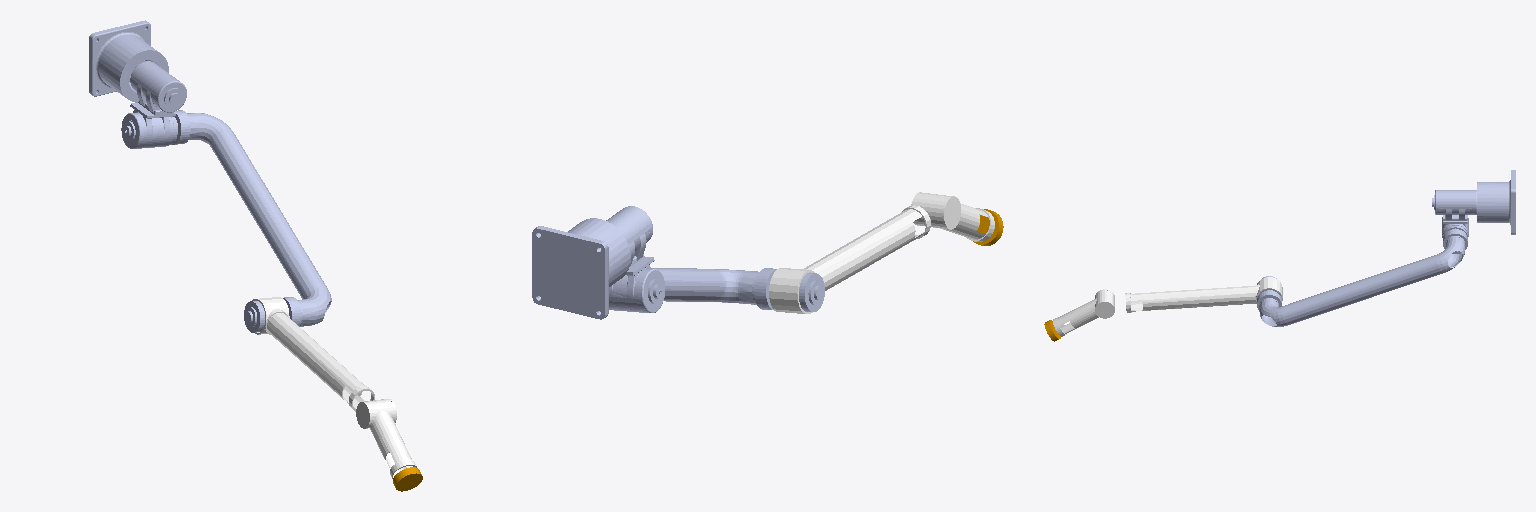
robot.urdf — starlink_space_manipulator_merged.SLDASM9:
<?xml version='1.0' encoding='utf-8'?>
<robot name="starlink_space_manipulator_merged.SLDASM9">
  <link name="starlink_space_manipulator_base_link">
    <inertial>
      <origin xyz="-0.00908719924946466 0.0225428225681148 -0.00851924929637313" rpy="0 0 0" />
      <mass value="8.66024015898073" />
      <inertia ixx="0.0960303512697639" ixy="1.65511904636803E-18" ixz="6.22039820639877E-19" iyy="0.103454922260914" iyz="-9.68471289978311E-19" izz="0.0960303512697639" />
    </inertial>
    <visual>
      <origin xyz="0 0 0" rpy="0 0 0" />
      <geometry>
        <mesh filename="meshes/starlink_space_manipulator_base_link.STL" />
      </geometry>
      <material name="">
        <color rgba="0.792156862745098 0.819607843137255 0.933333333333333 1" />
      </material>
    </visual>
    <collision>
      <origin xyz="0 0 0" rpy="0 0 0" />
      <geometry>
        <mesh filename="meshes/starlink_space_manipulator_base_link.STL" />
      </geometry>
    </collision>
  </link>
  <link name="starlink_space_manipulator_Shoulder_link_1">
    <inertial>
      <origin xyz="-0.000399471745595769 -0.100006574194712 -0.17423940484461" rpy="0 0 0" />
      <mass value="5.16309216784981" />
      <inertia ixx="0.0524543852135592" ixy="0.00348154867667969" ixz="6.96526910910627E-05" iyy="0.0306595326318824" iyz="-0.00056674368052247" izz="0.0439979075615329" />
    </inertial>
    <visual>
      <origin xyz="0 0 0" rpy="0 0 0" />
      <geometry>
        <mesh filename="meshes/starlink_space_manipulator_Shoulder_link_1.STL" />
      </geometry>
      <material name="">
        <color rgba="0.792156862745098 0.819607843137255 0.933333333333333 1" />
      </material>
    </visual>
    <collision>
      <origin xyz="0 0 0" rpy="0 0 0" />
      <geometry>
        <mesh filename="meshes/starlink_space_manipulator_Shoulder_link_1.STL" />
      </geometry>
    </collision>
  </link>
  <joint name="starlink_space_manipulator_Shoulder_link_1_yaw" type="revolute">
    <origin xyz="-0.0090872 -0.065 -0.0085192" rpy="1.5708 -0.15574 3.1416" />
    <parent link="starlink_space_manipulator_base_link" />
    <child link="starlink_space_manipulator_Shoulder_link_1" />
    <axis xyz="0 0 -1" />
    <limit lower="-3.14" upper="3.14" effort="0" velocity="0" />
  </joint>
  <link name="starlink_space_manipulator_Upper_arm_Link_1">
    <inertial>
      <origin xyz="0.402106341472203 -0.696465272634528 -0.170177523085579" rpy="0 0 0" />
      <mass value="5.05309869040685" />
      <inertia ixx="0.388719013133801" ixy="0.210155896498943" ixz="9.30829370680679E-08" iyy="0.146049057575642" iyz="1.71830458004218E-07" izz="0.500677708275447" />
    </inertial>
    <visual>
      <origin xyz="0 0 0" rpy="0 0 0" />
      <geometry>
        <mesh filename="meshes/starlink_space_manipulator_Upper_arm_Link_1.STL" />
      </geometry>
      <material name="">
        <color rgba="0.792156862745098 0.819607843137255 0.933333333333333 1" />
      </material>
    </visual>
    <collision>
      <origin xyz="0 0 0" rpy="0 0 0" />
      <geometry>
        <mesh filename="meshes/starlink_space_manipulator_Upper_arm_Link_1.STL" />
      </geometry>
    </collision>
  </link>
  <joint name="starlink_space_manipulator_Upper_arm_Link_1_roll" type="revolute">
    <origin xyz="0 -0.2 -0.18" rpy="1.5708 0.90646 1.5708" />
    <parent link="starlink_space_manipulator_Shoulder_link_1" />
    <child link="starlink_space_manipulator_Upper_arm_Link_1" />
    <axis xyz="0 0 -1" />
    <limit lower="-2" upper="1.5" effort="0" velocity="0" />
  </joint>
  <link name="starlink_space_manipulator_Mid_arm_Link_1">
    <inertial>
      <origin xyz="-0.000406052776441013 0.317722269561105 0.0155331755135703" rpy="0 0 0" />
      <mass value="1.57635531881168" />
      <inertia ixx="0.133610363618846" ixy="5.33750993405138E-05" ixz="-3.60473795202962E-09" iyy="0.00502119434334708" iyz="-2.514275749911E-05" izz="0.134586018527477" />
    </inertial>
    <visual>
      <origin xyz="0 0 0" rpy="0 0 0" />
      <geometry>
        <mesh filename="meshes/starlink_space_manipulator_Mid_arm_Link_1.STL" />
      </geometry>
      <material name="">
        <color rgba="1 1 1 1" />
      </material>
    </visual>
    <collision>
      <origin xyz="0 0 0" rpy="0 0 0" />
      <geometry>
        <mesh filename="meshes/starlink_space_manipulator_Mid_arm_Link_1.STL" />
      </geometry>
    </collision>
  </link>
  <joint name="starlink_space_manipulator_Mid_arm_Link_1_roll" type="revolute">
    <origin xyz="0.599999999999673 -1.03923048454122 0" rpy="-3.14159265358979 0 0.828250280535091" />
    <parent link="starlink_space_manipulator_Upper_arm_Link_1" />
    <child link="starlink_space_manipulator_Mid_arm_Link_1" />
    <axis xyz="0 0 -1" />
    <limit lower="-3.14" upper="3.14" effort="0" velocity="0" />
  </joint>
  <link name="starlink_space_manipulator_Upper_wrist_Link_1">
    <inertial>
      <origin xyz="-0.000400003664721815 -0.201565878030355 -0.00216705855311664" rpy="0 0 0" />
      <mass value="0.994770641034713" />
      <inertia ixx="0.00165409639029414" ixy="-7.59103925411082E-06" ixz="-3.17403155320863E-06" iyy="0.00201437937768072" iyz="2.63246464091218E-06" izz="0.00159638838344539" />
    </inertial>
    <visual>
      <origin xyz="0 0 0" rpy="0 0 0" />
      <geometry>
        <mesh filename="meshes/starlink_space_manipulator_Upper_wrist_Link_1.STL" />
      </geometry>
      <material name="">
        <color rgba="0.792156862745098 0.819607843137255 0.933333333333333 1" />
      </material>
    </visual>
    <collision>
      <origin xyz="0 0 0" rpy="0 0 0" />
      <geometry>
        <mesh filename="meshes/starlink_space_manipulator_Upper_wrist_Link_1.STL" />
      </geometry>
    </collision>
  </link>
  <joint name="starlink_space_manipulator_Upper_wrist_Link_1_yaw" type="revolute">
    <origin xyz="-0.00050155183276912 0.686793643713439 0.0155010481432086" rpy="0 -0.0763876794035917 3.14159265358979" />
    <parent link="starlink_space_manipulator_Mid_arm_Link_1" />
    <child link="starlink_space_manipulator_Upper_wrist_Link_1" />
    <axis xyz="0 -1 0" />
    <limit lower="-3.14" upper="3.14" effort="0" velocity="0" />
  </joint>
  <link name="starlink_space_manipulator_Upper_wrist_Link_2">
    <inertial>
      <origin xyz="8.45304168883843E-08 0.0848318719623631 -0.00515657391755576" rpy="0 0 0" />
      <mass value="1.03716823037577" />
      <inertia ixx="0.0100970561498589" ixy="1.32295633551837E-09" ixz="-9.43675929999229E-09" iyy="0.00222325407426665" iyz="-2.08772874866187E-06" izz="0.0105840577017538" />
    </inertial>
    <visual>
      <origin xyz="0 0 0" rpy="0 0 0" />
      <geometry>
        <mesh filename="meshes/starlink_space_manipulator_Upper_wrist_Link_2.STL" />
      </geometry>
      <material name="">
        <color rgba="1 1 1 1" />
      </material>
    </visual>
    <collision>
      <origin xyz="0 0 0" rpy="0 0 0" />
      <geometry>
        <mesh filename="meshes/starlink_space_manipulator_Upper_wrist_Link_2.STL" />
      </geometry>
    </collision>
  </link>
  <joint name="starlink_space_manipulator_Upper_wrist_Link_2_roll" type="revolute">
    <origin xyz="0 -0.30020635628656 0" rpy="-0.0158640776811277 -0.0317448426184613 -2.67805461574742" />
    <parent link="starlink_space_manipulator_Upper_wrist_Link_1" />
    <child link="starlink_space_manipulator_Upper_wrist_Link_2" />
    <axis xyz="0 0 1" />
    <limit lower="-2.5" upper="1.8" effort="0" velocity="0" />
  </joint>
  <link name="starlink__space_manipulator_2F-Body_Link">
    </link>
  <joint name="starlink__space_manipulator_2F-Body_Link_yaw" type="revolute">
    <origin xyz="0 0.34845 -0.0053813" rpy="-3.1416 0.93592 0" />
    <parent link="starlink_space_manipulator_Upper_wrist_Link_2" />
    <child link="starlink__space_manipulator_2F-Body_Link" />
    <axis xyz="0 -1 0" />
    <limit lower="-3.14" upper="3.14" effort="0" velocity="0" />
  </joint>
  <link name="angular_hand">
    <visual>
      <geometry>
        <mesh filename="meshes/hand_2finger.STL" scale="2 2 2" />
      </geometry>
    </visual>
    <collision>
      <geometry>
        <mesh filename="meshes/hand_2finger.STL" scale="2 2 2" />
      </geometry>
    </collision>
  </link>
  <joint name="angular_hand_fixed" type="fixed">
    <parent link="starlink__space_manipulator_2F-Body_Link" />
    <child link="angular_hand" />
    <origin xyz="0 -0.036 0" rpy="-1.5707963267948966 0 0" />
  </joint>
  <link name="angular_adapter">
    <visual>
      <geometry>
        <mesh filename="meshes/angular_adapter.stl" />
      </geometry>
    </visual>
    <collision>
      <geometry>
        <mesh filename="meshes/angular_adapter.stl" />
      </geometry>
    </collision>
  </link>
  <joint name="angular_adapter_fixed" type="fixed">
    <parent link="starlink__space_manipulator_2F-Body_Link" />
    <child link="angular_adapter" />
    <origin xyz="0 -0.0005 0" rpy="1.5707963267948966 0 0" />
  </joint>
  <link name="angular_finger_1">
    <visual>
      <geometry>
        <mesh filename="meshes/finger_proximal.STL" scale="2 2 2" />
      </geometry>
    </visual>
    <collision>
      <geometry>
        <mesh filename="meshes/finger_proximal.STL" scale="2 2 2" />
      </geometry>
    </collision>
  </link>
  <link name="angular_tip_1">
    <visual>
      <geometry>
        <mesh filename="meshes/finger_distal.STL" scale="2 2 2" />
      </geometry>
    </visual>
    <collision>
      <geometry>
        <mesh filename="meshes/finger_distal.STL" scale="2 2 2" />
      </geometry>
    </collision>
  </link>
  <joint name="angular_joint_1" type="revolute">
    <parent link="angular_hand" />
    <child link="angular_finger_1" />
    <axis xyz="0 0 1" />
    <origin xyz="-0.005 0.0619 -0.22964" rpy="-1.570796327 .649262481663582 1.5707963267948966" />
    <limit lower="0" upper="1.51" effort="2" velocity="1" />
  </joint>
  <joint name="angular_joint_tip_1" type="revolute">
    <parent link="angular_finger_1" />
    <child link="angular_tip_1" />
    <axis xyz="0 0 1" />
    <origin xyz="0.088 -0.006 0.0" rpy="0 0 0" />
    <limit lower="0" upper="2" effort="2" velocity="1" />
  </joint>
  <link name="angular_finger_2">
    <visual>
      <geometry>
        <mesh filename="meshes/finger_proximal.STL" scale="2 2 2" />
      </geometry>
    </visual>
    <collision>
      <geometry>
        <mesh filename="meshes/finger_proximal.STL" scale="2 2 2" />
      </geometry>
    </collision>
  </link>
  <link name="angular_tip_2">
    <visual>
      <geometry>
        <mesh filename="meshes/finger_distal.STL" scale="2 2 2" />
      </geometry>
    </visual>
    <collision>
      <geometry>
        <mesh filename="meshes/finger_distal.STL" scale="2 2 2" />
      </geometry>
    </collision>
  </link>
  <joint name="angular_joint_2" type="revolute">
    <parent link="angular_hand" />
    <child link="angular_finger_2" />
    <axis xyz="0 0 1" />
    <origin xyz="-0.005 -0.0619 -0.22964" rpy="-1.570796327 .649262481663582 -1.5707963267948966" />
    <limit lower="0" upper="1.51" effort="2" velocity="1" />
  </joint>
  <joint name="angular_joint_tip_2" type="revolute">
    <parent link="angular_finger_2" />
    <child link="angular_tip_2" />
    <axis xyz="0 0 1" />
    <origin xyz="0.088 -0.006 0.0" rpy="0 0 0" />
    <limit lower="0" upper="2" effort="2" velocity="1" />
  </joint>
  <link name="angular_tcp" />
  <joint name="angular_tcp_fixed" type="fixed">
    <parent link="angular_hand" />
    <child link="angular_tcp" />
    <origin xyz="-0.005 0 -0.34" rpy="3.141592653589793 0 0" />
  </joint>
</robot>

--- Render facts (derived) ---
The picture shows the robot from 3 angles, left to right: view 1: azimuth 30°, elevation 25°; view 2: azimuth 150°, elevation 25°; view 3: azimuth 270°, elevation 25°; orthographic projection.
Robot: starlink_space_manipulator_merged.SLDASM9 — 14 links, 13 joints (10 revolute, 3 fixed); root link starlink_space_manipulator_base_link; default pose: all joints at 0.
Visible links, largest first — view 1: starlink_space_manipulator_Upper_arm_Link_1, starlink_space_manipulator_Shoulder_link_1, starlink_space_manipulator_base_link, starlink_space_manipulator_Mid_arm_Link_1, starlink_space_manipulator_Upper_wrist_Link_2, angular_adapter; view 2: starlink_space_manipulator_base_link, starlink_space_manipulator_Mid_arm_Link_1, starlink_space_manipulator_Upper_arm_Link_1, starlink_space_manipulator_Shoulder_link_1, starlink_space_manipulator_Upper_wrist_Link_2; view 3: starlink_space_manipulator_Upper_arm_Link_1, starlink_space_manipulator_Mid_arm_Link_1, starlink_space_manipulator_Shoulder_link_1, starlink_space_manipulator_base_link, starlink_space_manipulator_Upper_wrist_Link_2.
Link boxes in pixels (x1,y1,x2,y2): starlink_space_manipulator_Upper_arm_Link_1: (124,113,331,332); starlink_space_manipulator_Shoulder_link_1: (121,60,190,148); starlink_space_manipulator_base_link: (89,20,168,102); starlink_space_manipulator_Mid_arm_Link_1: (252,297,374,411); starlink_space_manipulator_Upper_wrist_Link_2: (356,399,416,478); angular_adapter: (393,467,422,491); starlink_space_manipulator_base_link: (532,218,630,319); starlink_space_manipulator_Mid_arm_Link_1: (769,205,930,313); starlink_space_manipulator_Upper_arm_Link_1: (651,268,824,311); starlink_space_manipulator_Shoulder_link_1: (606,206,664,312); starlink_space_manipulator_Upper_wrist_Link_2: (911,192,994,241); starlink_space_manipulator_Upper_arm_Link_1: (1257,236,1464,326); starlink_space_manipulator_Mid_arm_Link_1: (1125,277,1282,312); starlink_space_manipulator_Shoulder_link_1: (1432,190,1476,249); starlink_space_manipulator_base_link: (1477,170,1515,234); starlink_space_manipulator_Upper_wrist_Link_2: (1053,289,1114,336).
Size in the robot's own frame: 0.5238 by 2.82 by 1.12 metres.
6 mesh visuals loaded from 10 distinct referenced files (6 binary STL); not drawn: 6 (reference not matched to a file when rendering).
